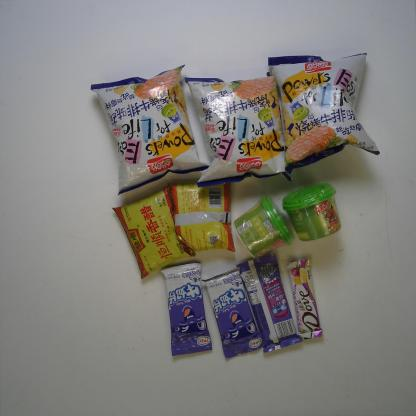Candy: (234, 253, 302, 354), (199, 264, 266, 360), (160, 262, 214, 358)
Chocolate: (286, 258, 324, 340)
Instant Drink: (230, 194, 296, 262), (282, 182, 340, 243)
Puffed Food: (88, 64, 212, 197), (266, 49, 384, 175), (182, 72, 296, 190)
Seasoner: (109, 188, 193, 284), (166, 177, 238, 255)
